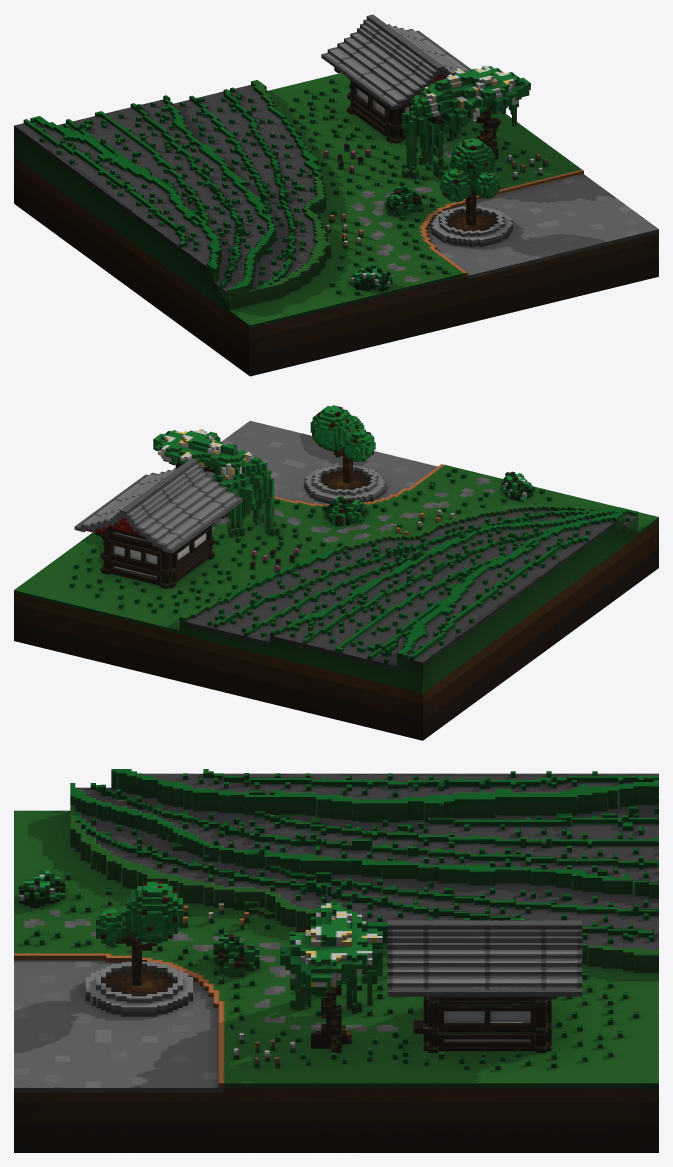
3 views of the same model, one above another, from view 1: azimuth 30°, elevation 25°; view 2: azimuth 150°, elevation 25°; view 3: azimuth 270°, elevation 25° (orthographic). The views are drawn at different scales.
Parts seen in each view (by area): view 1: _B; view 2: _B; view 3: _B.
Part boxes in pixels (left/top/right/bottom): _B: left=14, top=14, right=658, bottom=376; _B: left=14, top=405, right=658, bottom=740; _B: left=14, top=769, right=658, bottom=1152.
Bounding box in the file's own units: 126 × 126 × 39.
1 material, 1 textured.
